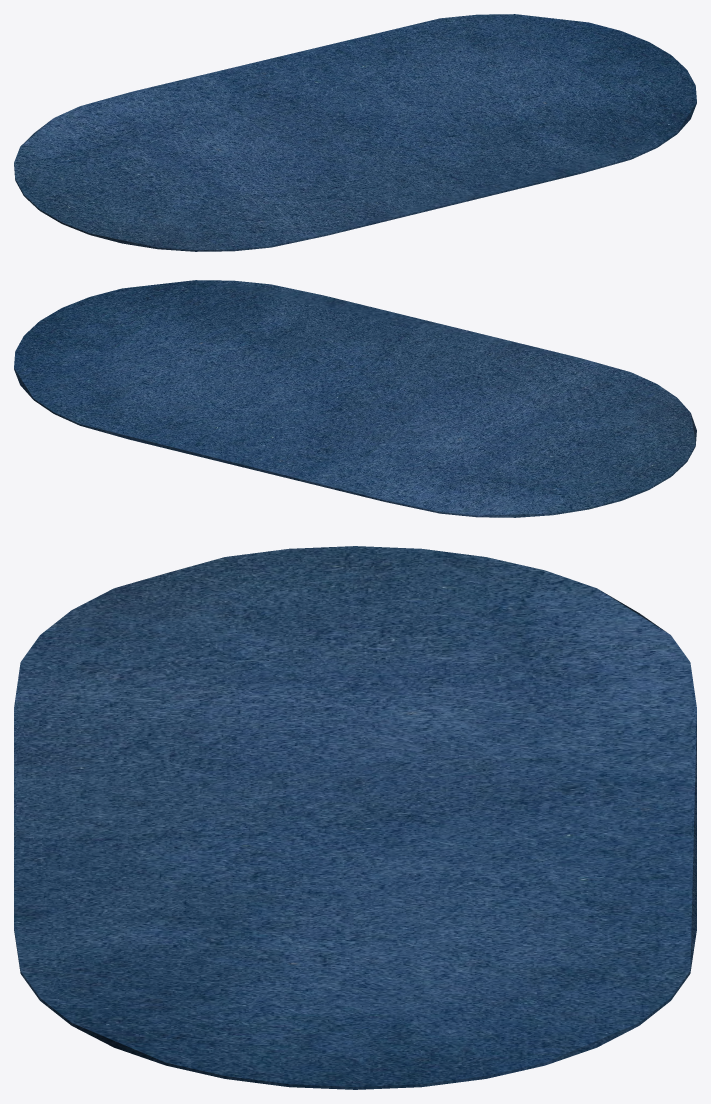
3 renders of one model, top to bottom at view 1: azimuth 30°, elevation 25°; view 2: azimuth 150°, elevation 25°; view 3: azimuth 270°, elevation 25°, orthographic. The views are drawn at different scales.
Visible parts, largest first — view 1: carpet; view 2: carpet; view 3: carpet.
Boxes of the visible parts, x1,y1,x2,y2 form: carpet: (14, 14, 696, 251); carpet: (14, 280, 696, 517); carpet: (14, 546, 696, 1089).
Bounding box in the file's own units: 230278 × 590 × 122887.
1 material, 1 textured.
